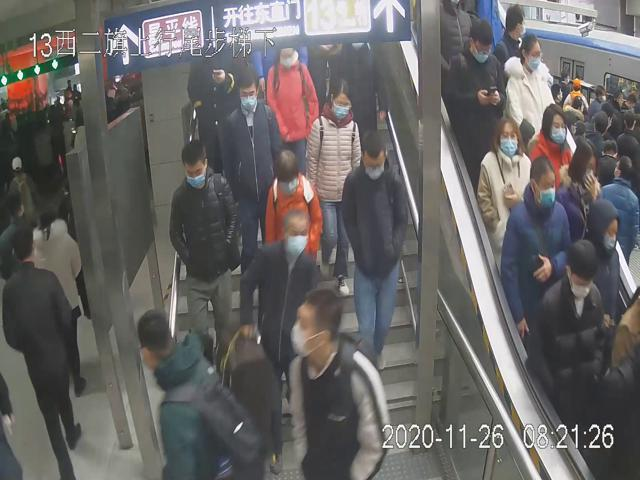person: (287, 285, 392, 480), (240, 205, 329, 400), (340, 128, 408, 375), (168, 138, 239, 364), (500, 154, 572, 347), (219, 64, 280, 263), (306, 75, 360, 278), (448, 16, 505, 165), (476, 112, 532, 250), (264, 149, 322, 265), (265, 44, 318, 169), (502, 29, 552, 136)
